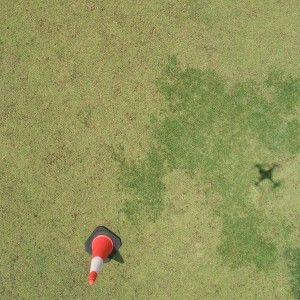traffic cone: (84, 226, 121, 285)
